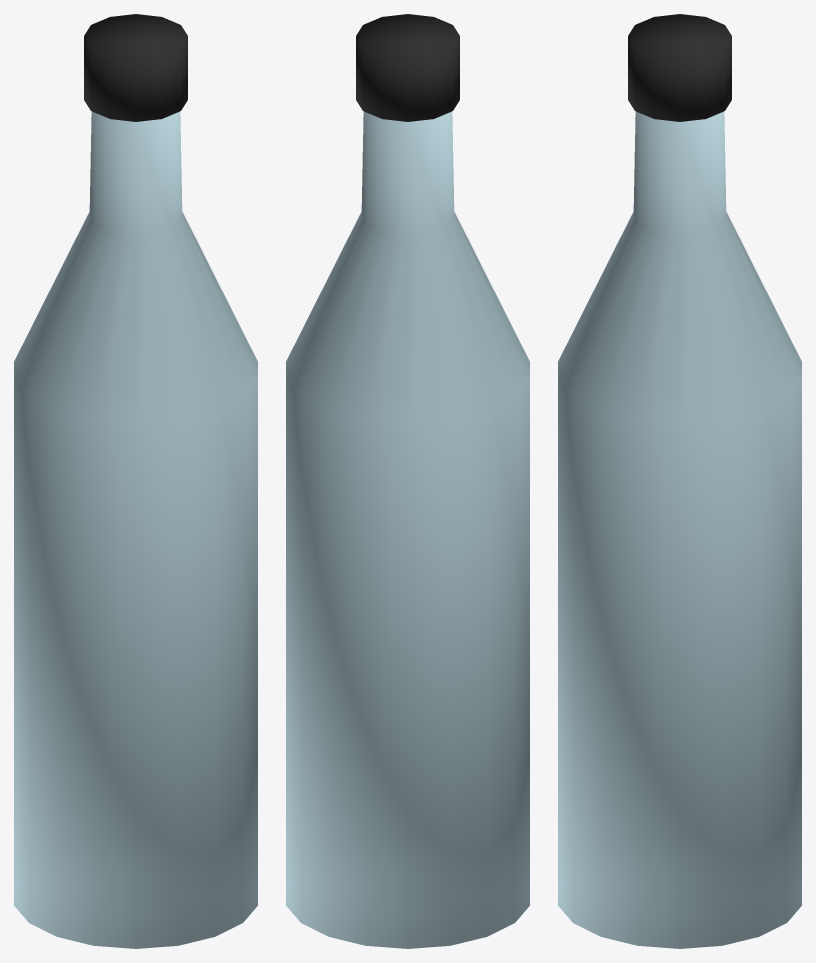
Rendered from i_bottle_4.glb.
3 views of the same model, side by side, from view 1: azimuth 30°, elevation 25°; view 2: azimuth 150°, elevation 25°; view 3: azimuth 270°, elevation 25° (orthographic).
Visible parts, largest first — view 1: o, o.001; view 2: o, o.001; view 3: o, o.001.
Part boxes in pixels (box(x1,y1,x2,y2)): o: box(14, 111, 257, 948); o.001: box(84, 14, 187, 121); o: box(286, 111, 529, 948); o.001: box(356, 14, 459, 121); o: box(558, 111, 801, 948); o.001: box(628, 14, 731, 121).
Size of the model in its own units: 0.07 by 0.2686 by 0.0689.
